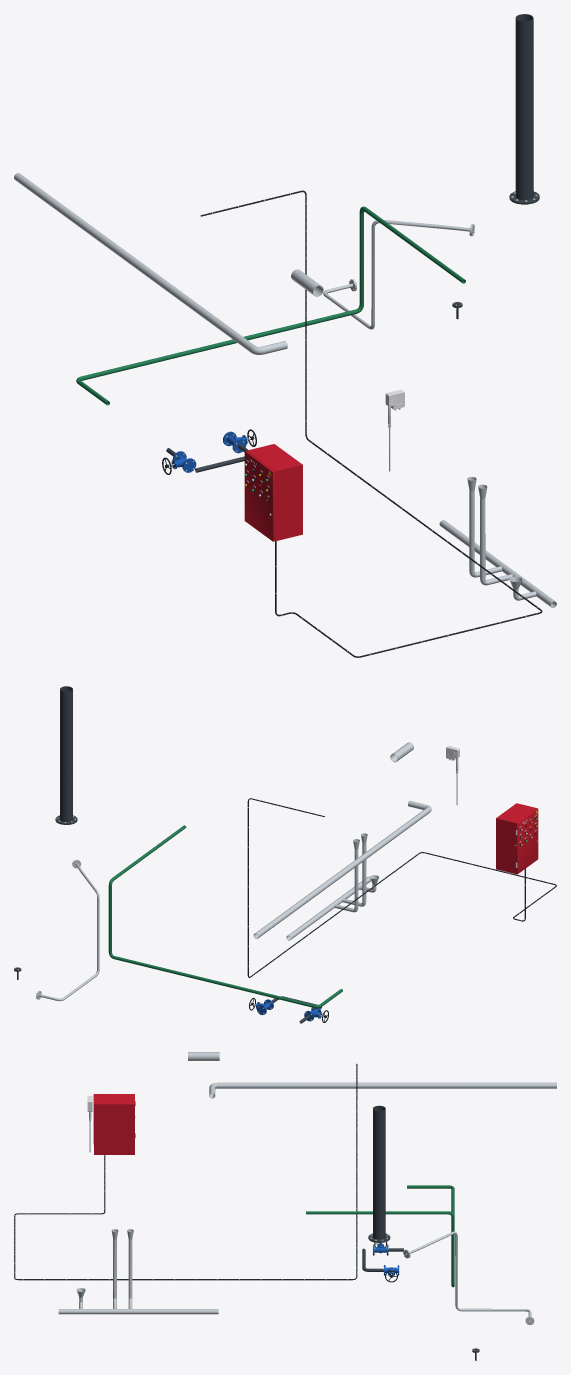
The model's file is s4000-1-CdL7FAXL.glb.
3 renders of one model, top to bottom at view 1: azimuth 30°, elevation 25°; view 2: azimuth 150°, elevation 25°; view 3: azimuth 270°, elevation 25°, orthographic. The views are drawn at different scales.
Parts seen in each view (by area): view 1: bdv_vent / dark, safety_vent_2 / steel, control_cabinet / control_cabinet_0.npz, to_economizer / green, local_open_drains / steel, cabinet_door / cabinet_door_5.npz, mod_eco_drive_cable / black, trap_gap_to_bdv / steel; view 2: bdv_vent / dark, to_economizer / green, safety_vent_2 / steel, control_cabinet / control_cabinet_0.npz, local_open_drains / steel, mod_eco_drive_cable / black, cabinet_door / cabinet_door_5.npz, trap_gap_to_bdv / steel; view 3: control_cabinet / control_cabinet_0.npz, safety_vent_2 / steel, bdv_vent / dark, local_open_drains / steel, mod_eco_drive_cable / black, to_economizer / green, trap_gap_to_bdv / steel.
Boxes of the visible parts, x1,y1,x2,y2 form: bdv_vent / dark: [509, 14, 539, 204]; safety_vent_2 / steel: [14, 173, 287, 354]; control_cabinet / control_cabinet_0.npz: [247, 444, 302, 541]; to_economizer / green: [76, 206, 465, 405]; local_open_drains / steel: [439, 476, 556, 607]; cabinet_door / cabinet_door_5.npz: [244, 451, 274, 541]; mod_eco_drive_cable / black: [200, 190, 542, 657]; trap_gap_to_bdv / steel: [323, 220, 474, 329]; bdv_vent / dark: [55, 686, 77, 824]; to_economizer / green: [108, 825, 342, 1008]; safety_vent_2 / steel: [253, 800, 431, 938]; control_cabinet / control_cabinet_0.npz: [496, 803, 536, 873]; local_open_drains / steel: [286, 833, 378, 940]; mod_eco_drive_cable / black: [247, 798, 556, 977]; cabinet_door / cabinet_door_5.npz: [516, 808, 538, 874]; trap_gap_to_bdv / steel: [36, 859, 99, 1001]; control_cabinet / control_cabinet_0.npz: [94, 1094, 135, 1154]; safety_vent_2 / steel: [209, 1082, 556, 1098]; bdv_vent / dark: [368, 1105, 390, 1242]; local_open_drains / steel: [58, 1229, 218, 1314]; mod_eco_drive_cable / black: [14, 1064, 357, 1280]; to_economizer / green: [306, 1185, 454, 1287]; trap_gap_to_bdv / steel: [403, 1231, 534, 1325].
Bounding box in the file's own units: 5.01 × 3.91 × 7.03.
